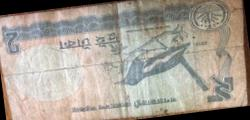2 taka: (6, 1, 241, 119)
